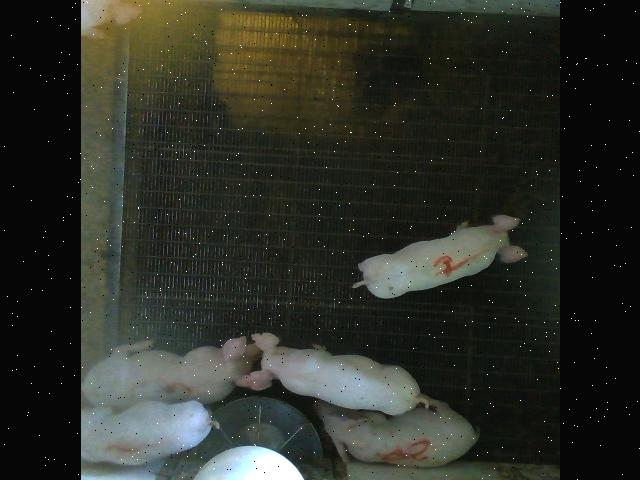pig-1: (81, 400, 218, 464)
pig-3: (82, 336, 261, 410)
pig-4: (353, 215, 526, 299)
pig-5: (314, 399, 479, 466)
